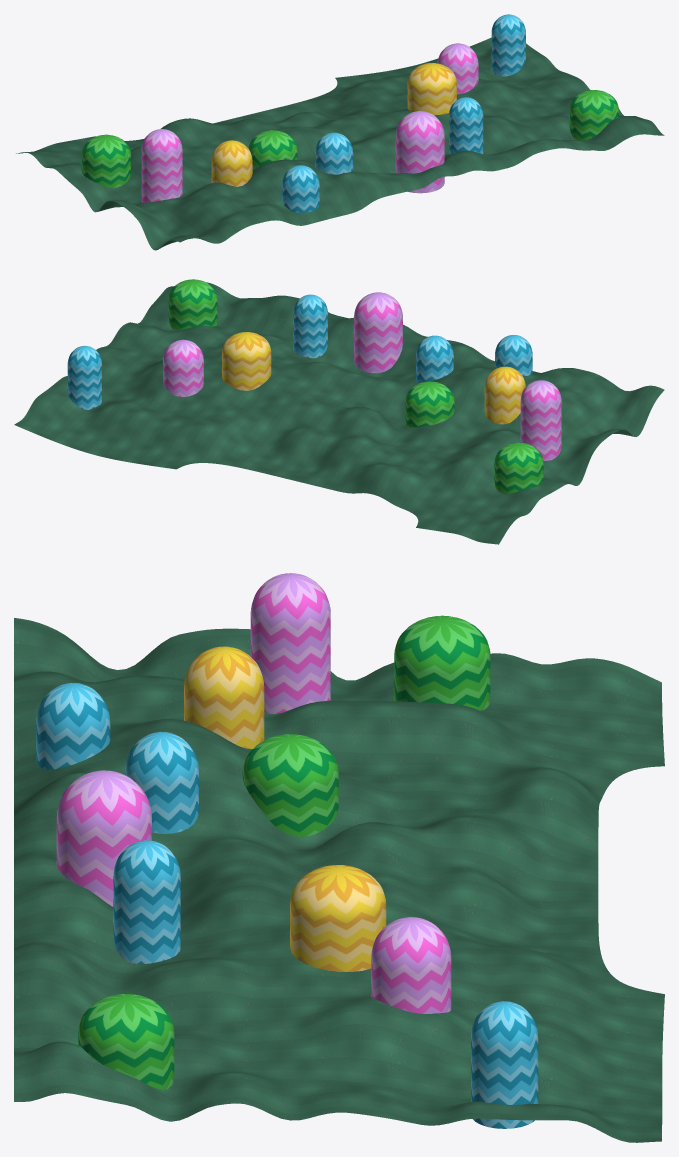
Rendered from SU_Periphery.FBX.
3 renders of one model, top to bottom at view 1: azimuth 30°, elevation 25°; view 2: azimuth 150°, elevation 25°; view 3: azimuth 270°, elevation 25°, orthographic. The views are drawn at different scales.
Parts seen in each view (by area): view 1: g_terrain_perif, g_tower_pink02, g_tower_pink03, g_tower_yellow02, g_tower_yellow004, g_tower_blue004, g_tower_yellow003, g_tower_blue01, g_tower_green01, g_tower_blue02, g_tower_blue03, g_tower_yellow (+1 smaller); view 2: g_terrain_perif, g_tower_pink02, g_tower_pink03, g_tower_yellow02, g_tower_yellow003, g_tower_yellow004, g_tower_pink01, g_tower_blue01, g_tower_blue004, g_tower_green01, g_tower_yellow, g_tower_blue03 (+1 smaller); view 3: g_terrain_perif, g_tower_pink03, g_tower_pink02, g_tower_yellow02, g_tower_yellow004, g_tower_yellow, g_tower_blue01, g_tower_blue004, g_tower_yellow003, g_tower_pink01, g_tower_green01, g_tower_blue03 (+1 smaller).
Part boxes in pixels (<box>): g_terrain_perif: <box>16,37,664,250</box>; g_tower_pink02: <box>395,111,444,193</box>; g_tower_pink03: <box>141,129,182,202</box>; g_tower_yellow02: <box>407,63,456,115</box>; g_tower_yellow004: <box>81,134,130,188</box>; g_tower_blue004: <box>491,14,525,76</box>; g_tower_yellow003: <box>569,90,618,140</box>; g_tower_blue01: <box>449,97,483,154</box>; g_tower_green01: <box>211,140,252,186</box>; g_tower_blue02: <box>282,165,319,212</box>; g_tower_blue03: <box>315,132,353,174</box>; g_tower_yellow: <box>248,130,297,166</box>; g_terrain_perif: <box>14,282,664,544</box>; g_tower_pink02: <box>354,292,402,373</box>; g_tower_pink03: <box>520,380,561,460</box>; g_tower_yellow02: <box>222,332,271,390</box>; g_tower_yellow003: <box>168,279,217,330</box>; g_tower_yellow004: <box>494,442,543,494</box>; g_tower_pink01: <box>163,339,203,396</box>; g_tower_blue01: <box>293,294,327,358</box>; g_tower_blue004: <box>67,345,101,409</box>; g_tower_green01: <box>484,366,525,424</box>; g_tower_yellow: <box>405,381,454,427</box>; g_tower_blue03: <box>416,335,453,382</box>; g_terrain_perif: <box>14,618,664,1142</box>; g_tower_pink03: <box>250,573,330,714</box>; g_tower_pink02: <box>56,770,151,906</box>; g_tower_yellow02: <box>290,865,386,971</box>; g_tower_yellow004: <box>394,615,490,710</box>; g_tower_yellow: <box>242,734,338,836</box>; g_tower_blue01: <box>113,840,180,963</box>; g_tower_blue004: <box>471,1001,538,1128</box>; g_tower_yellow003: <box>78,994,174,1089</box>; g_tower_pink01: <box>371,917,451,1013</box>; g_tower_green01: <box>184,646,264,748</box>; g_tower_blue03: <box>125,732,198,833</box>.
Size of the model in its own units: 180 by 32.02 by 107.
